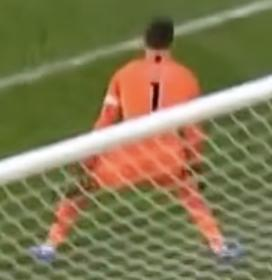goalkeeper: (9, 5, 272, 280)
